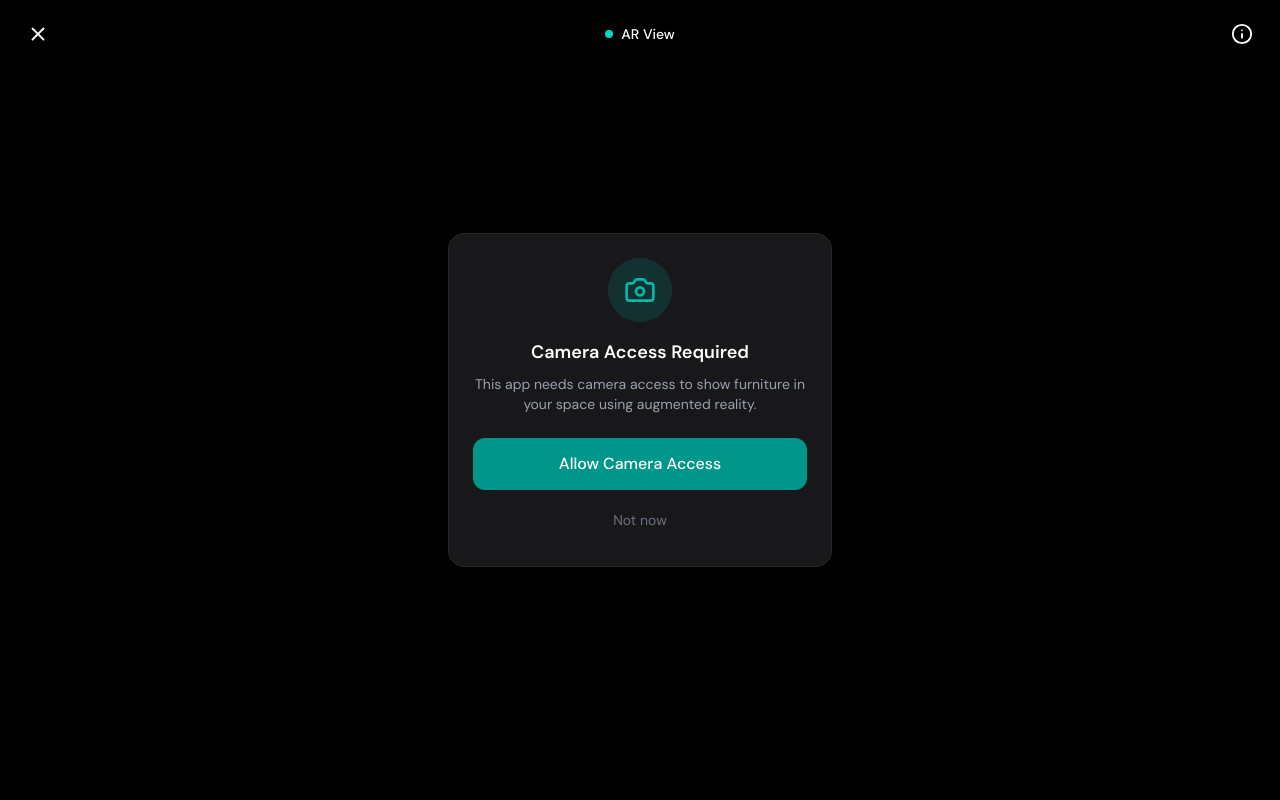
Test case: FE-53 AR start loads only the selected model › session becomes usable while background prefetch is still in flight (start does not await it)
Click the button "Allow Camera Access".
click(640, 464)  # box [473, 438, 807, 490]
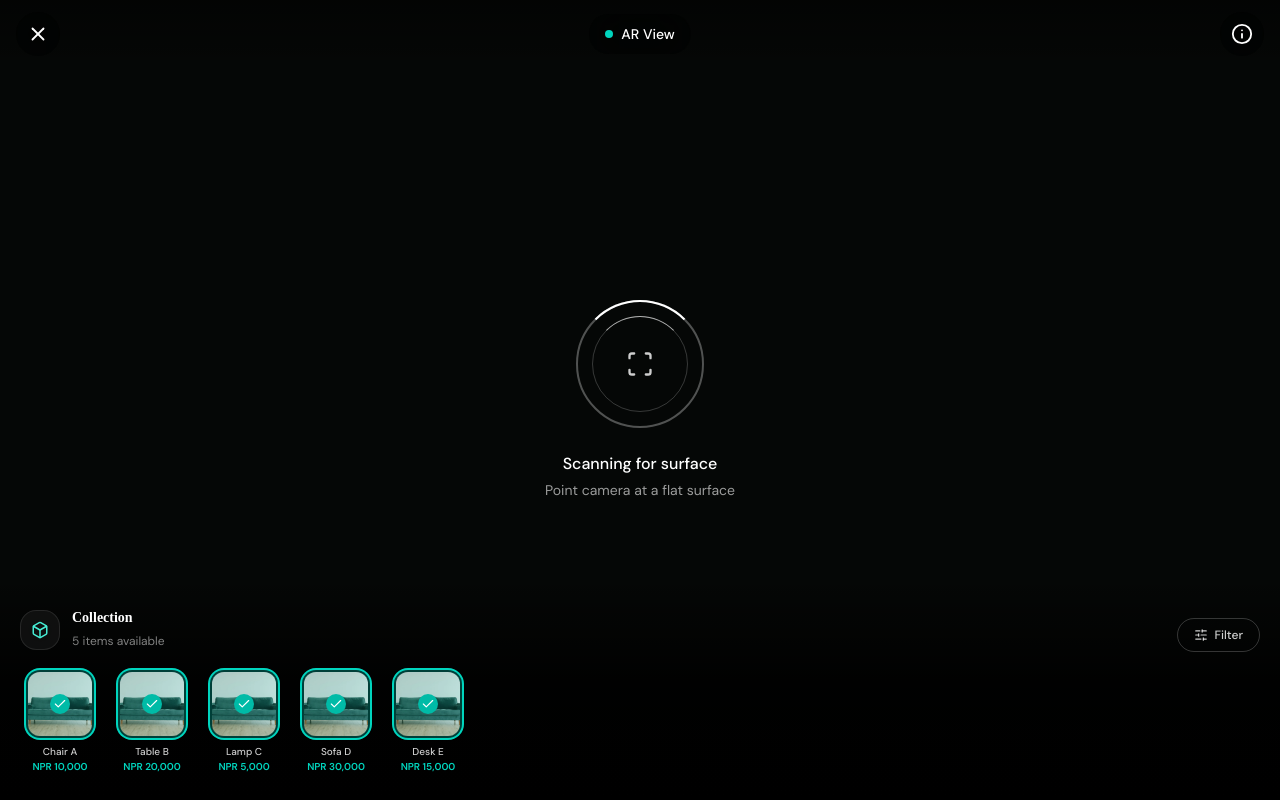
Expected: the heading "Collection" is shown, [72, 610, 133, 625]
